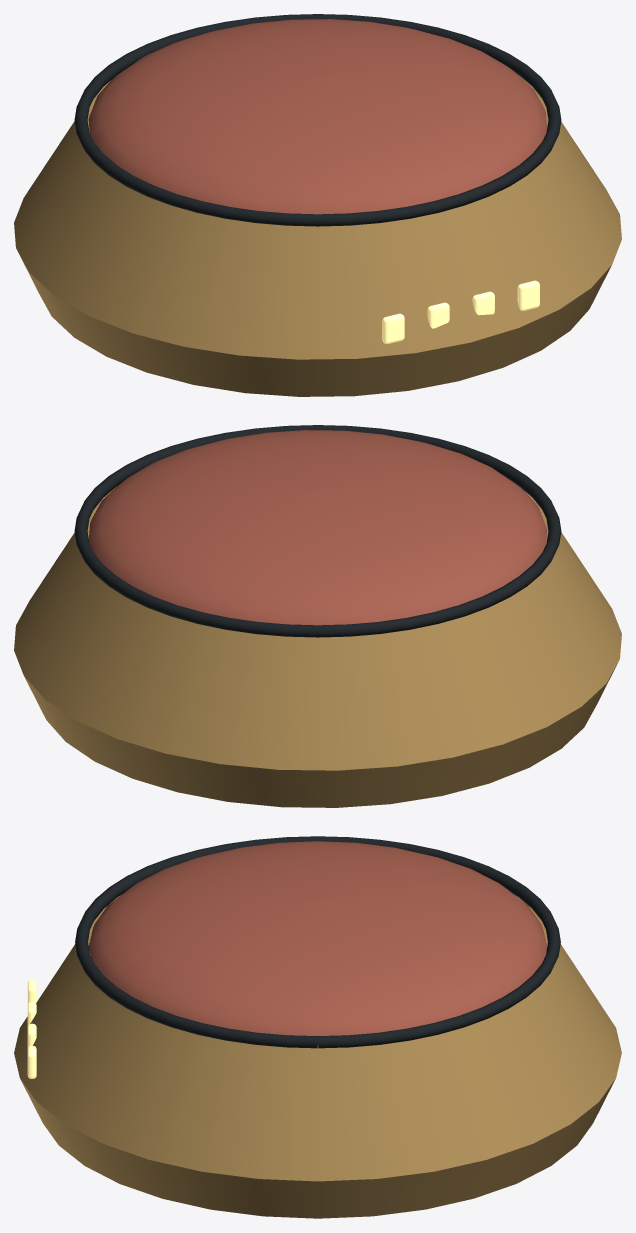
The picture shows the model from 3 angles, top to bottom: view 1: azimuth 30°, elevation 25°; view 2: azimuth 150°, elevation 25°; view 3: azimuth 270°, elevation 25°; orthographic projection.
Parts seen in each view (by area): view 1: Silo flared bunker, Silo armoured lid, Silo lid seam, Inset service window, Inset service window.003; view 2: Silo flared bunker, Silo armoured lid, Silo lid seam; view 3: Silo flared bunker, Silo armoured lid, Silo lid seam.
Boxes of the visible parts, x1,y1,x2,y2 form: Silo flared bunker: (14, 75, 621, 396); Silo armoured lid: (88, 19, 546, 214); Silo lid seam: (74, 14, 561, 226); Inset service window: (382, 313, 404, 343); Inset service window.003: (517, 280, 539, 310); Silo flared bunker: (14, 486, 621, 807); Silo armoured lid: (89, 430, 547, 625); Silo lid seam: (74, 425, 561, 637); Silo flared bunker: (14, 895, 621, 1218); Silo armoured lid: (88, 841, 547, 1035); Silo lid seam: (75, 836, 560, 1048).
Size of the model in its own units: 2.34 by 0.85 by 2.34.
